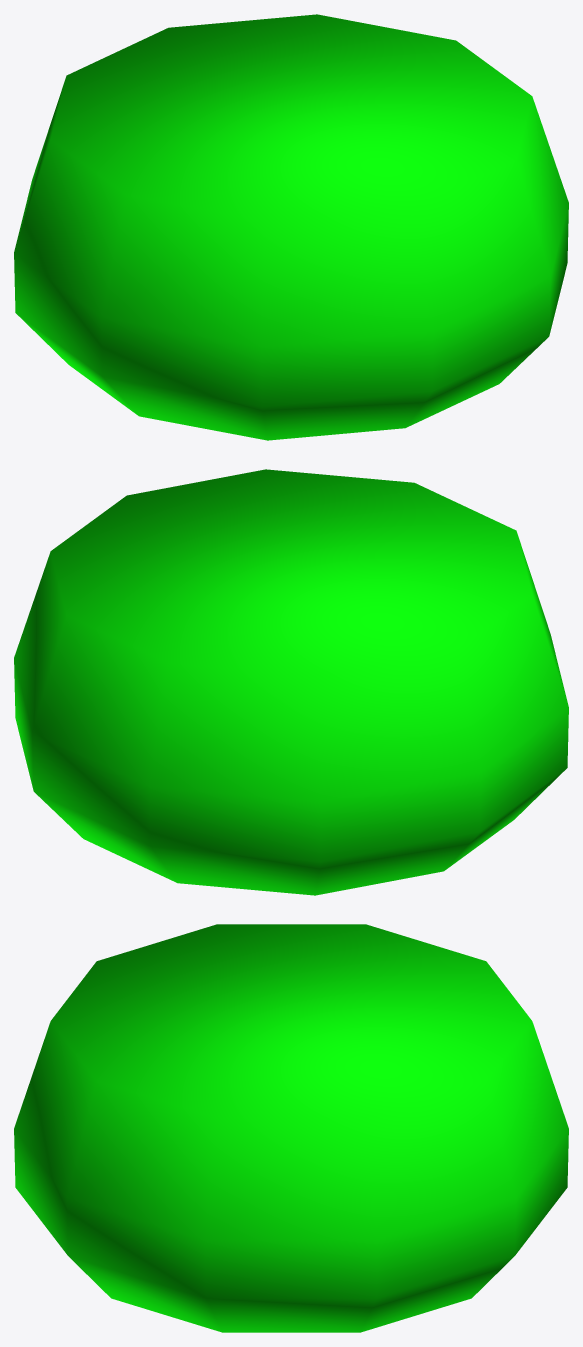
File: Set_08_Bottle_01_Liquid.fbx
3 renders of one model, top to bottom at view 1: azimuth 30°, elevation 25°; view 2: azimuth 150°, elevation 25°; view 3: azimuth 270°, elevation 25°, orthographic. The views are drawn at different scales.
Parts seen in each view (by area): view 1: Set_08_Bottle_01_Liquid; view 2: Set_08_Bottle_01_Liquid; view 3: Set_08_Bottle_01_Liquid.
Boxes of the visible parts, x1,y1,x2,y2 form: Set_08_Bottle_01_Liquid: (14,14,568,440); Set_08_Bottle_01_Liquid: (14,469,568,895); Set_08_Bottle_01_Liquid: (14,924,568,1332).
Size of the model in its own units: 12.27 by 5.7 by 12.9.
